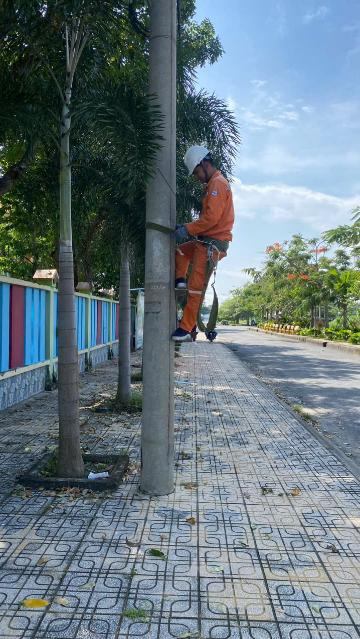gloves: (171, 224, 198, 244)
harness: (193, 231, 242, 255)
helmet: (180, 140, 217, 176)
shoes: (168, 318, 196, 345), (171, 273, 191, 300)
